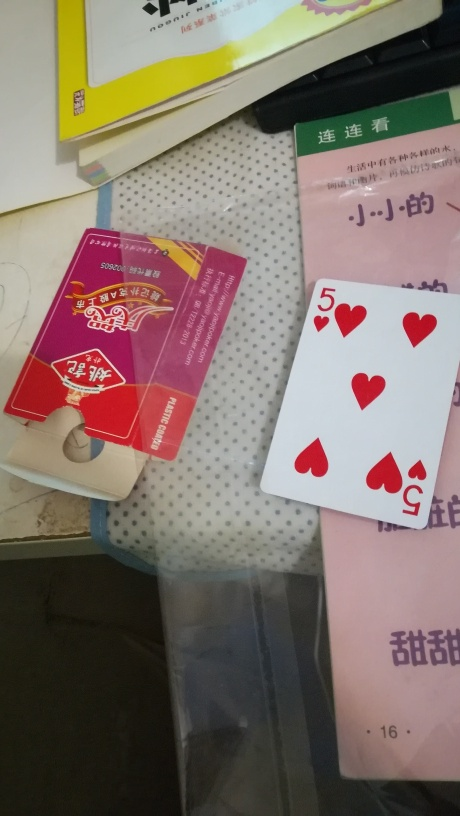hx 5: (260, 276, 460, 531)
